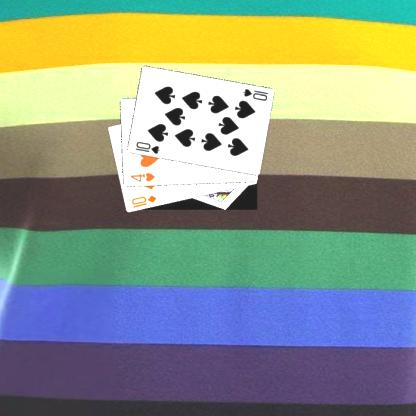10D: (129, 193, 157, 209)
10S: (240, 86, 270, 102), (132, 139, 161, 155)
4H: (128, 170, 156, 183)
